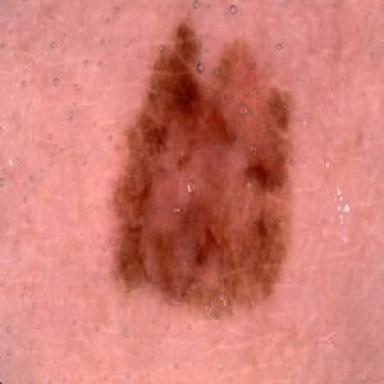Melanoma: (115, 23, 292, 317)
